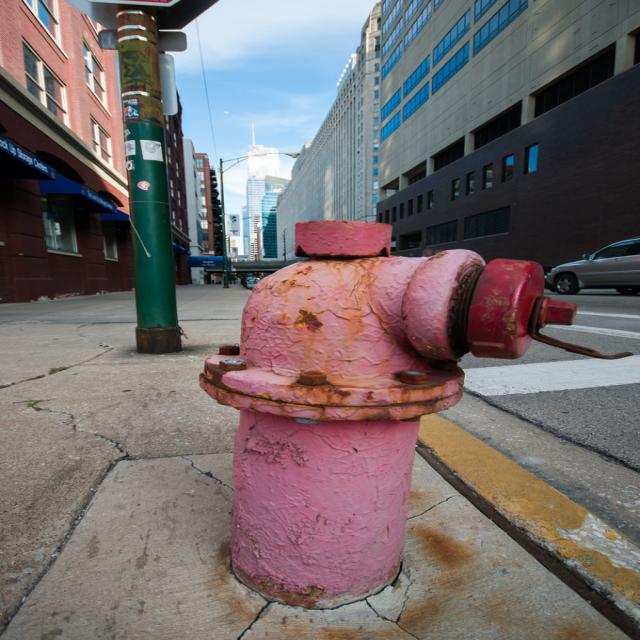fire_hydrant: (200, 221, 573, 614)
